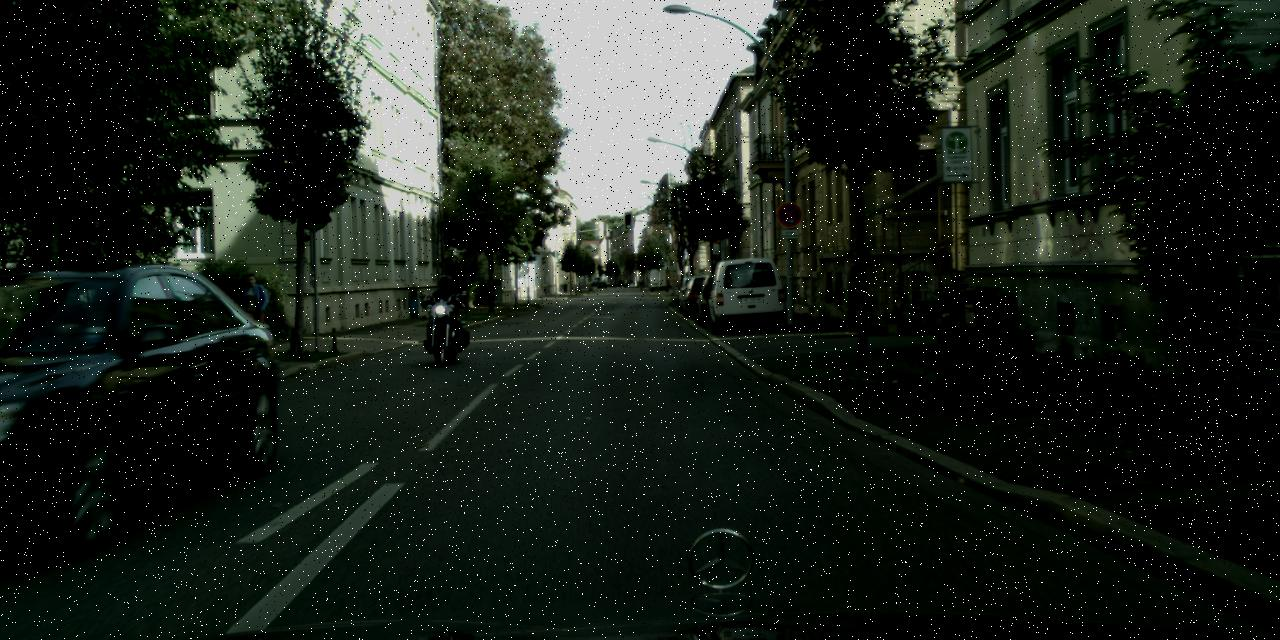ped: (237, 274, 267, 348), (430, 275, 460, 349)
